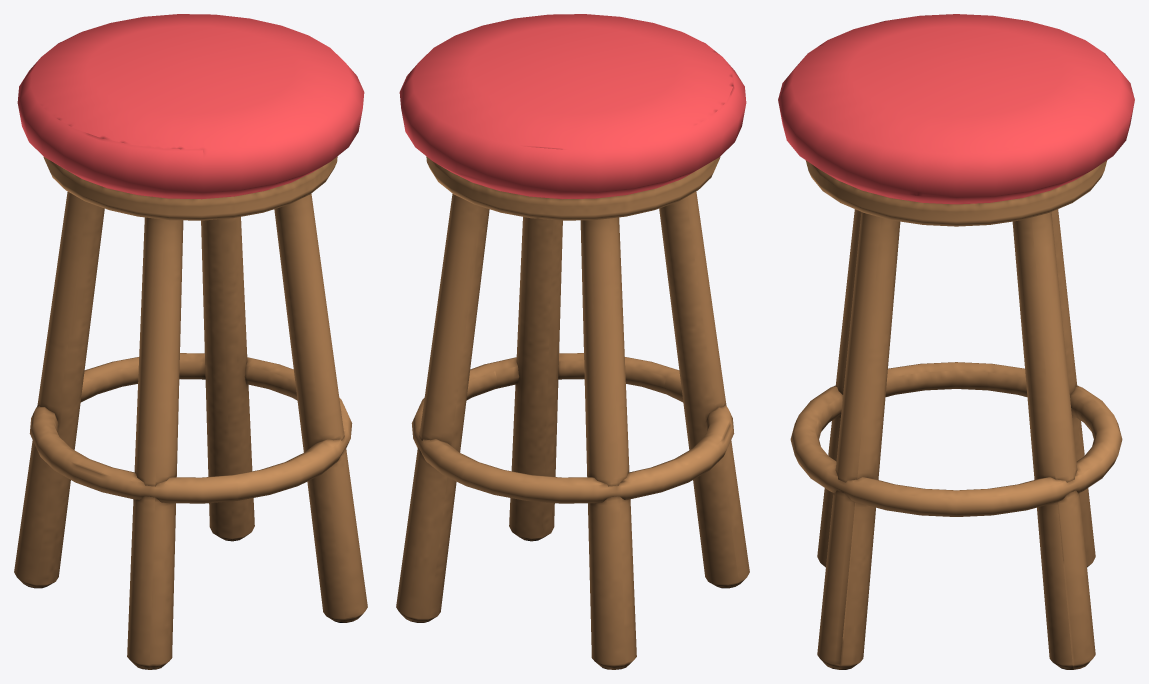
File: stool.glb
3 renders of one model, left to right at view 1: azimuth 30°, elevation 25°; view 2: azimuth 150°, elevation 25°; view 3: azimuth 270°, elevation 25°, orthographic. The views are drawn at different scales.
Visible parts, largest first — view 1: stool; view 2: stool; view 3: stool.
Part boxes in pixels (left/top/right/bottom): stool: left=14, top=14, right=367, bottom=669; stool: left=396, top=14, right=749, bottom=669; stool: left=778, top=14, right=1134, bottom=669.
Size of the model in its own units: 0.4 by 0.6797 by 0.4.
2 materials, 2 textured.
